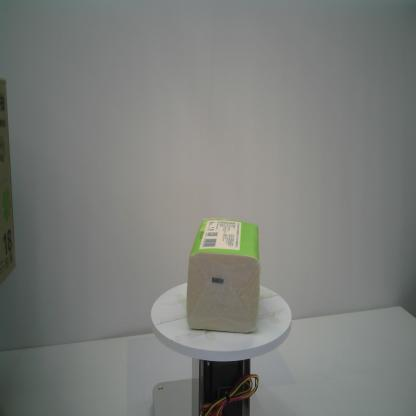Tissue: (185, 216, 262, 334)
